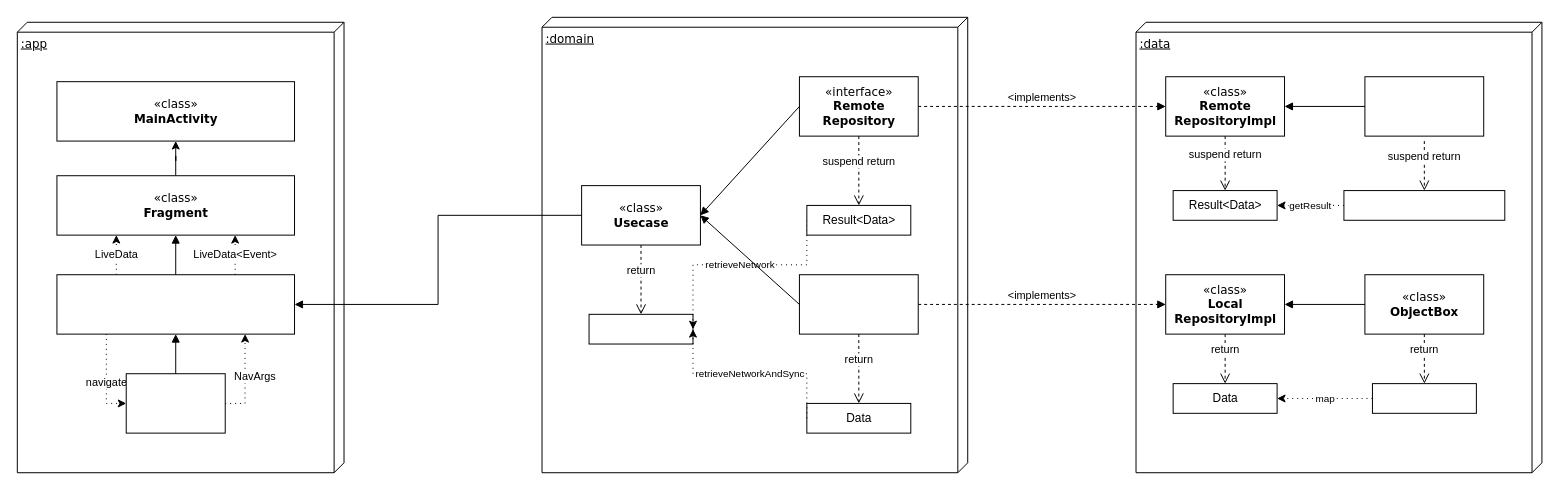
The diagram is 1559 pixels wide and 490 high, and some of its shapes have lost their labels. Here are the shapes that lost their labels. From the top down, the centre of each, then its label:
the point at 1424,106: «class» ApiService
the point at 1424,205: Response<DataResponse>
the point at 175,304: «class» ViewModel
the point at 858,304: «interface» Local Repository
the point at 640,328: Flow<Data>
the point at 175,403: «class» NavManager
the point at 1423,398: DataEntity
